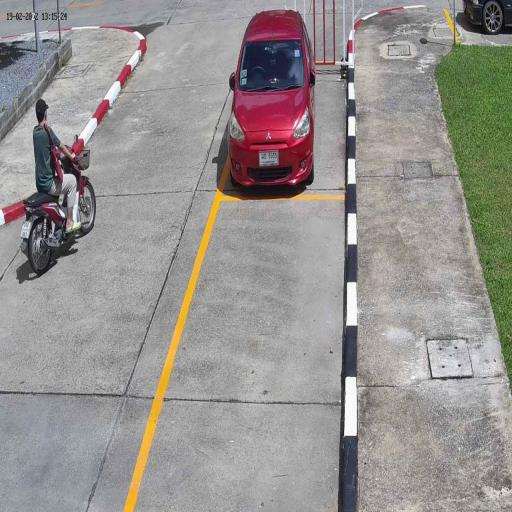car: (226, 8, 317, 190)
motorcycle: (20, 174, 97, 275)
